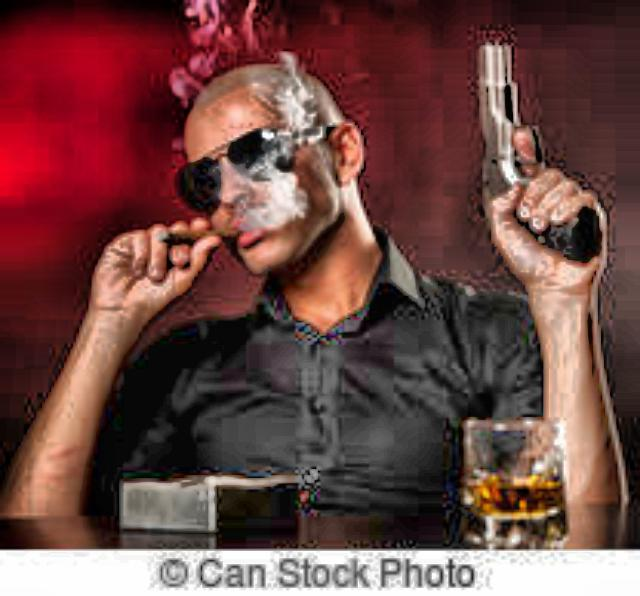pistol: (471, 37, 597, 261)
